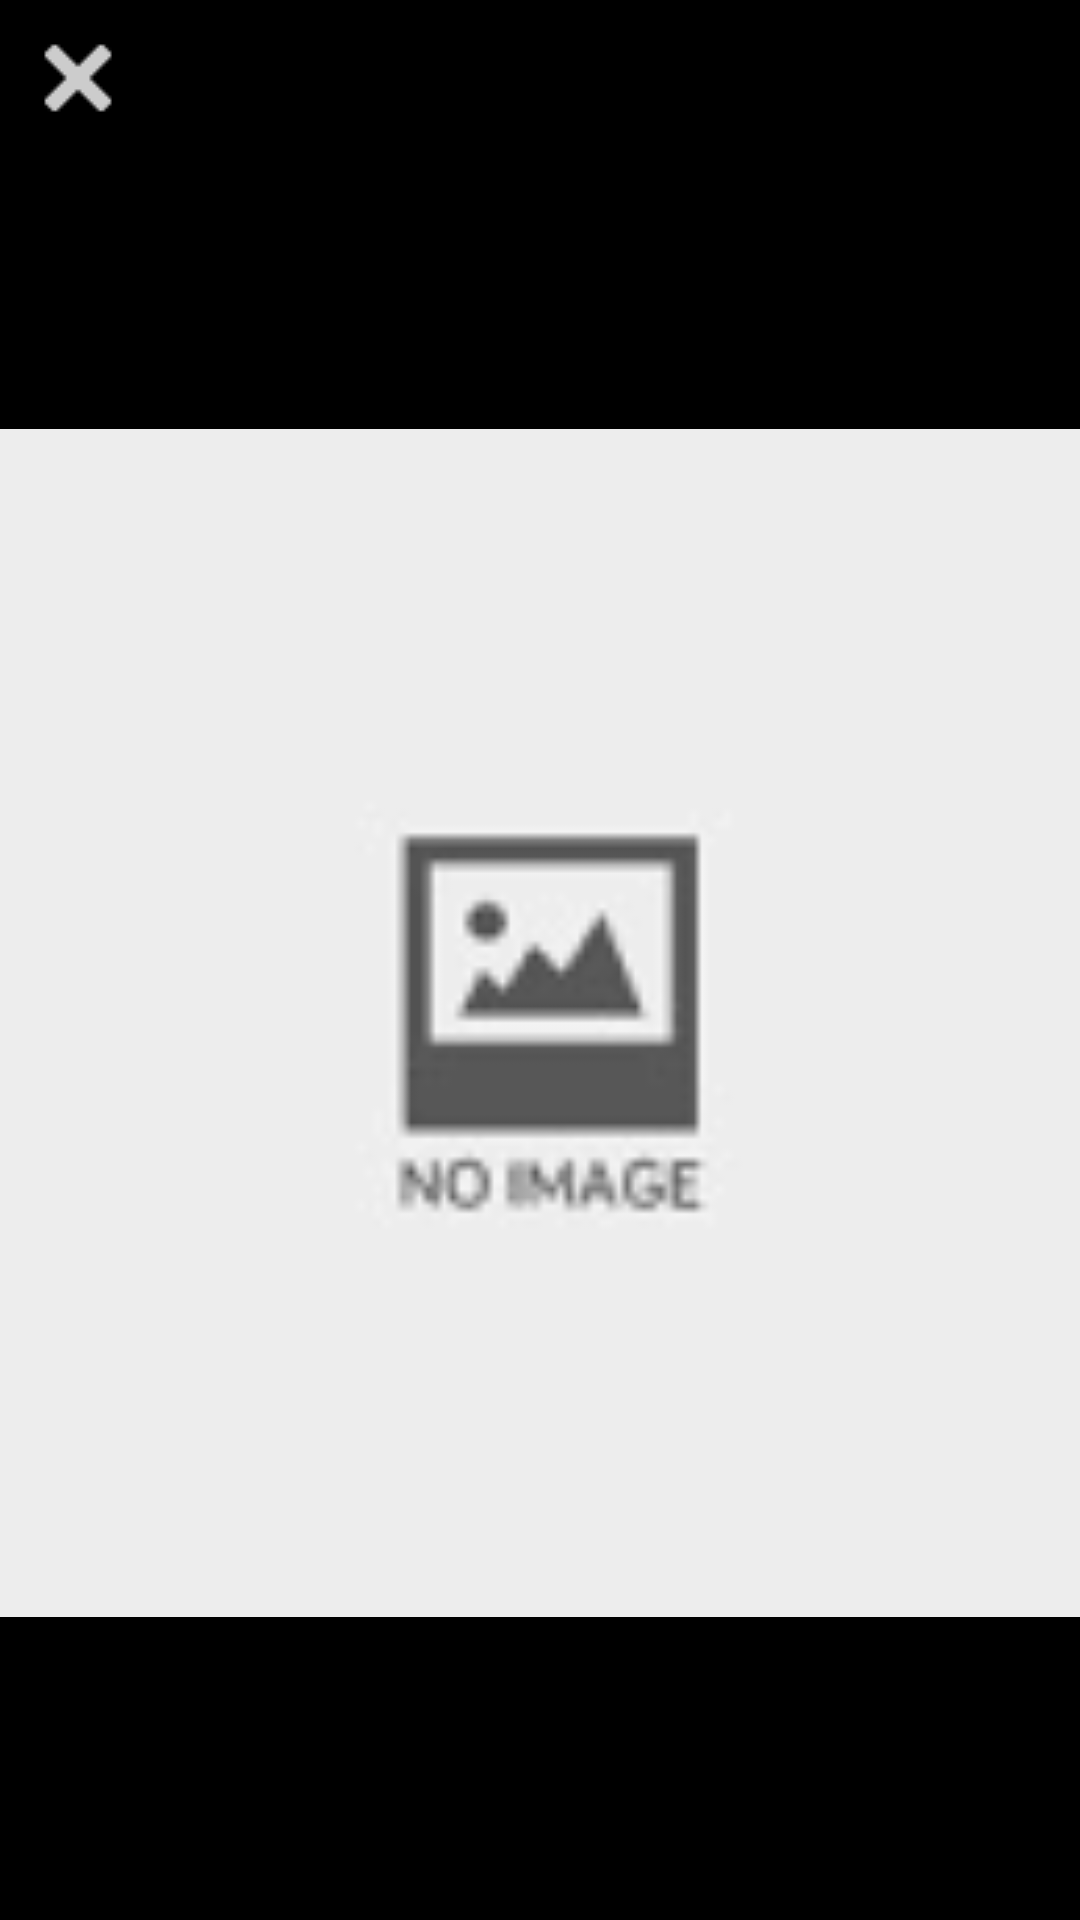

Icon bounding boxes for this 1080×1920 phone screenshot, format box=[x1, y1, x2, y2]:
close: box=[44, 44, 112, 112]
